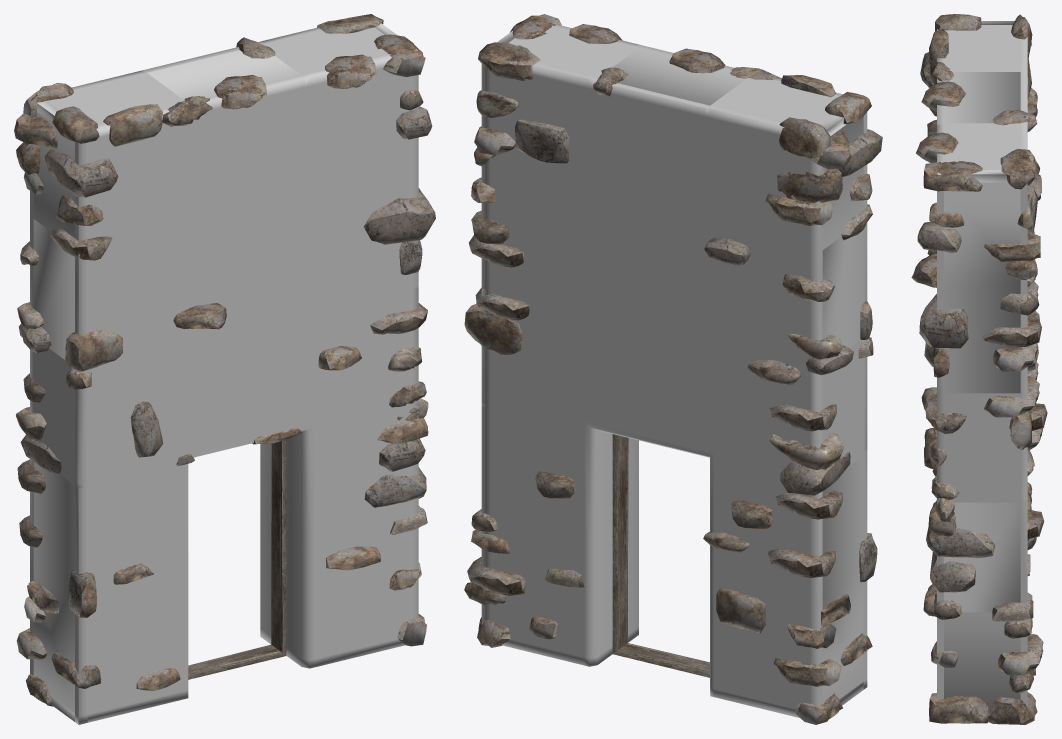
Rendered from SM_Wall11.FBX.
The picture shows the model from 3 angles, left to right: view 1: azimuth 30°, elevation 25°; view 2: azimuth 150°, elevation 25°; view 3: azimuth 270°, elevation 25°; orthographic projection. The views are drawn at different scales.
Parts seen in each view (by area): view 1: SM_Wall11; view 2: SM_Wall11; view 3: SM_Wall11.
Boxes of the visible parts, x1=… form: SM_Wall11: x1=14, y1=14, x2=435, y2=724; SM_Wall11: x1=464, y1=14, x2=882, y2=724; SM_Wall11: x1=911, y1=14, x2=1047, y2=724.
Bounding box in the file's own units: 675 × 226 × 1023.
